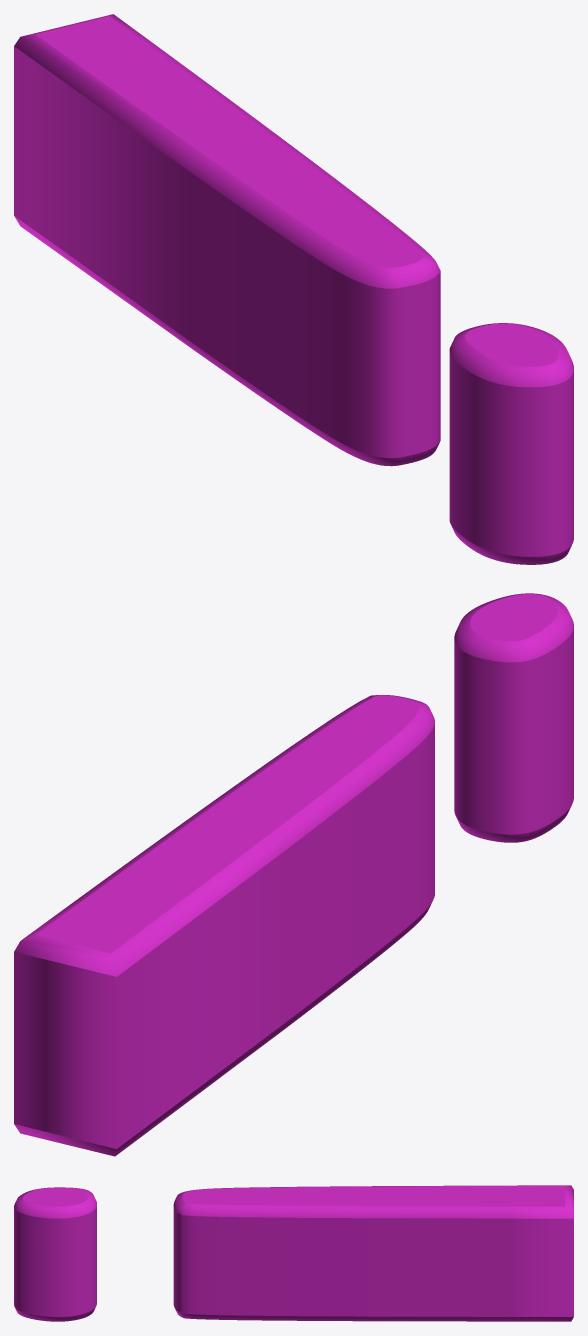
File: Blocky_Letter_i.fbx
3 renders of one model, top to bottom at view 1: azimuth 30°, elevation 25°; view 2: azimuth 150°, elevation 25°; view 3: azimuth 270°, elevation 25°, orthographic. The views are drawn at different scales.
Visible parts, largest first — view 1: BlockyLetter_i; view 2: BlockyLetter_i; view 3: BlockyLetter_i.
Boxes of the visible parts, box(x1,y1,x2,y2) form: BlockyLetter_i: box(14, 14, 573, 564); BlockyLetter_i: box(14, 593, 573, 1156); BlockyLetter_i: box(14, 1185, 573, 1321).
Bounding box in the file's own units: 0.0754 × 0.14 × 0.6194.
